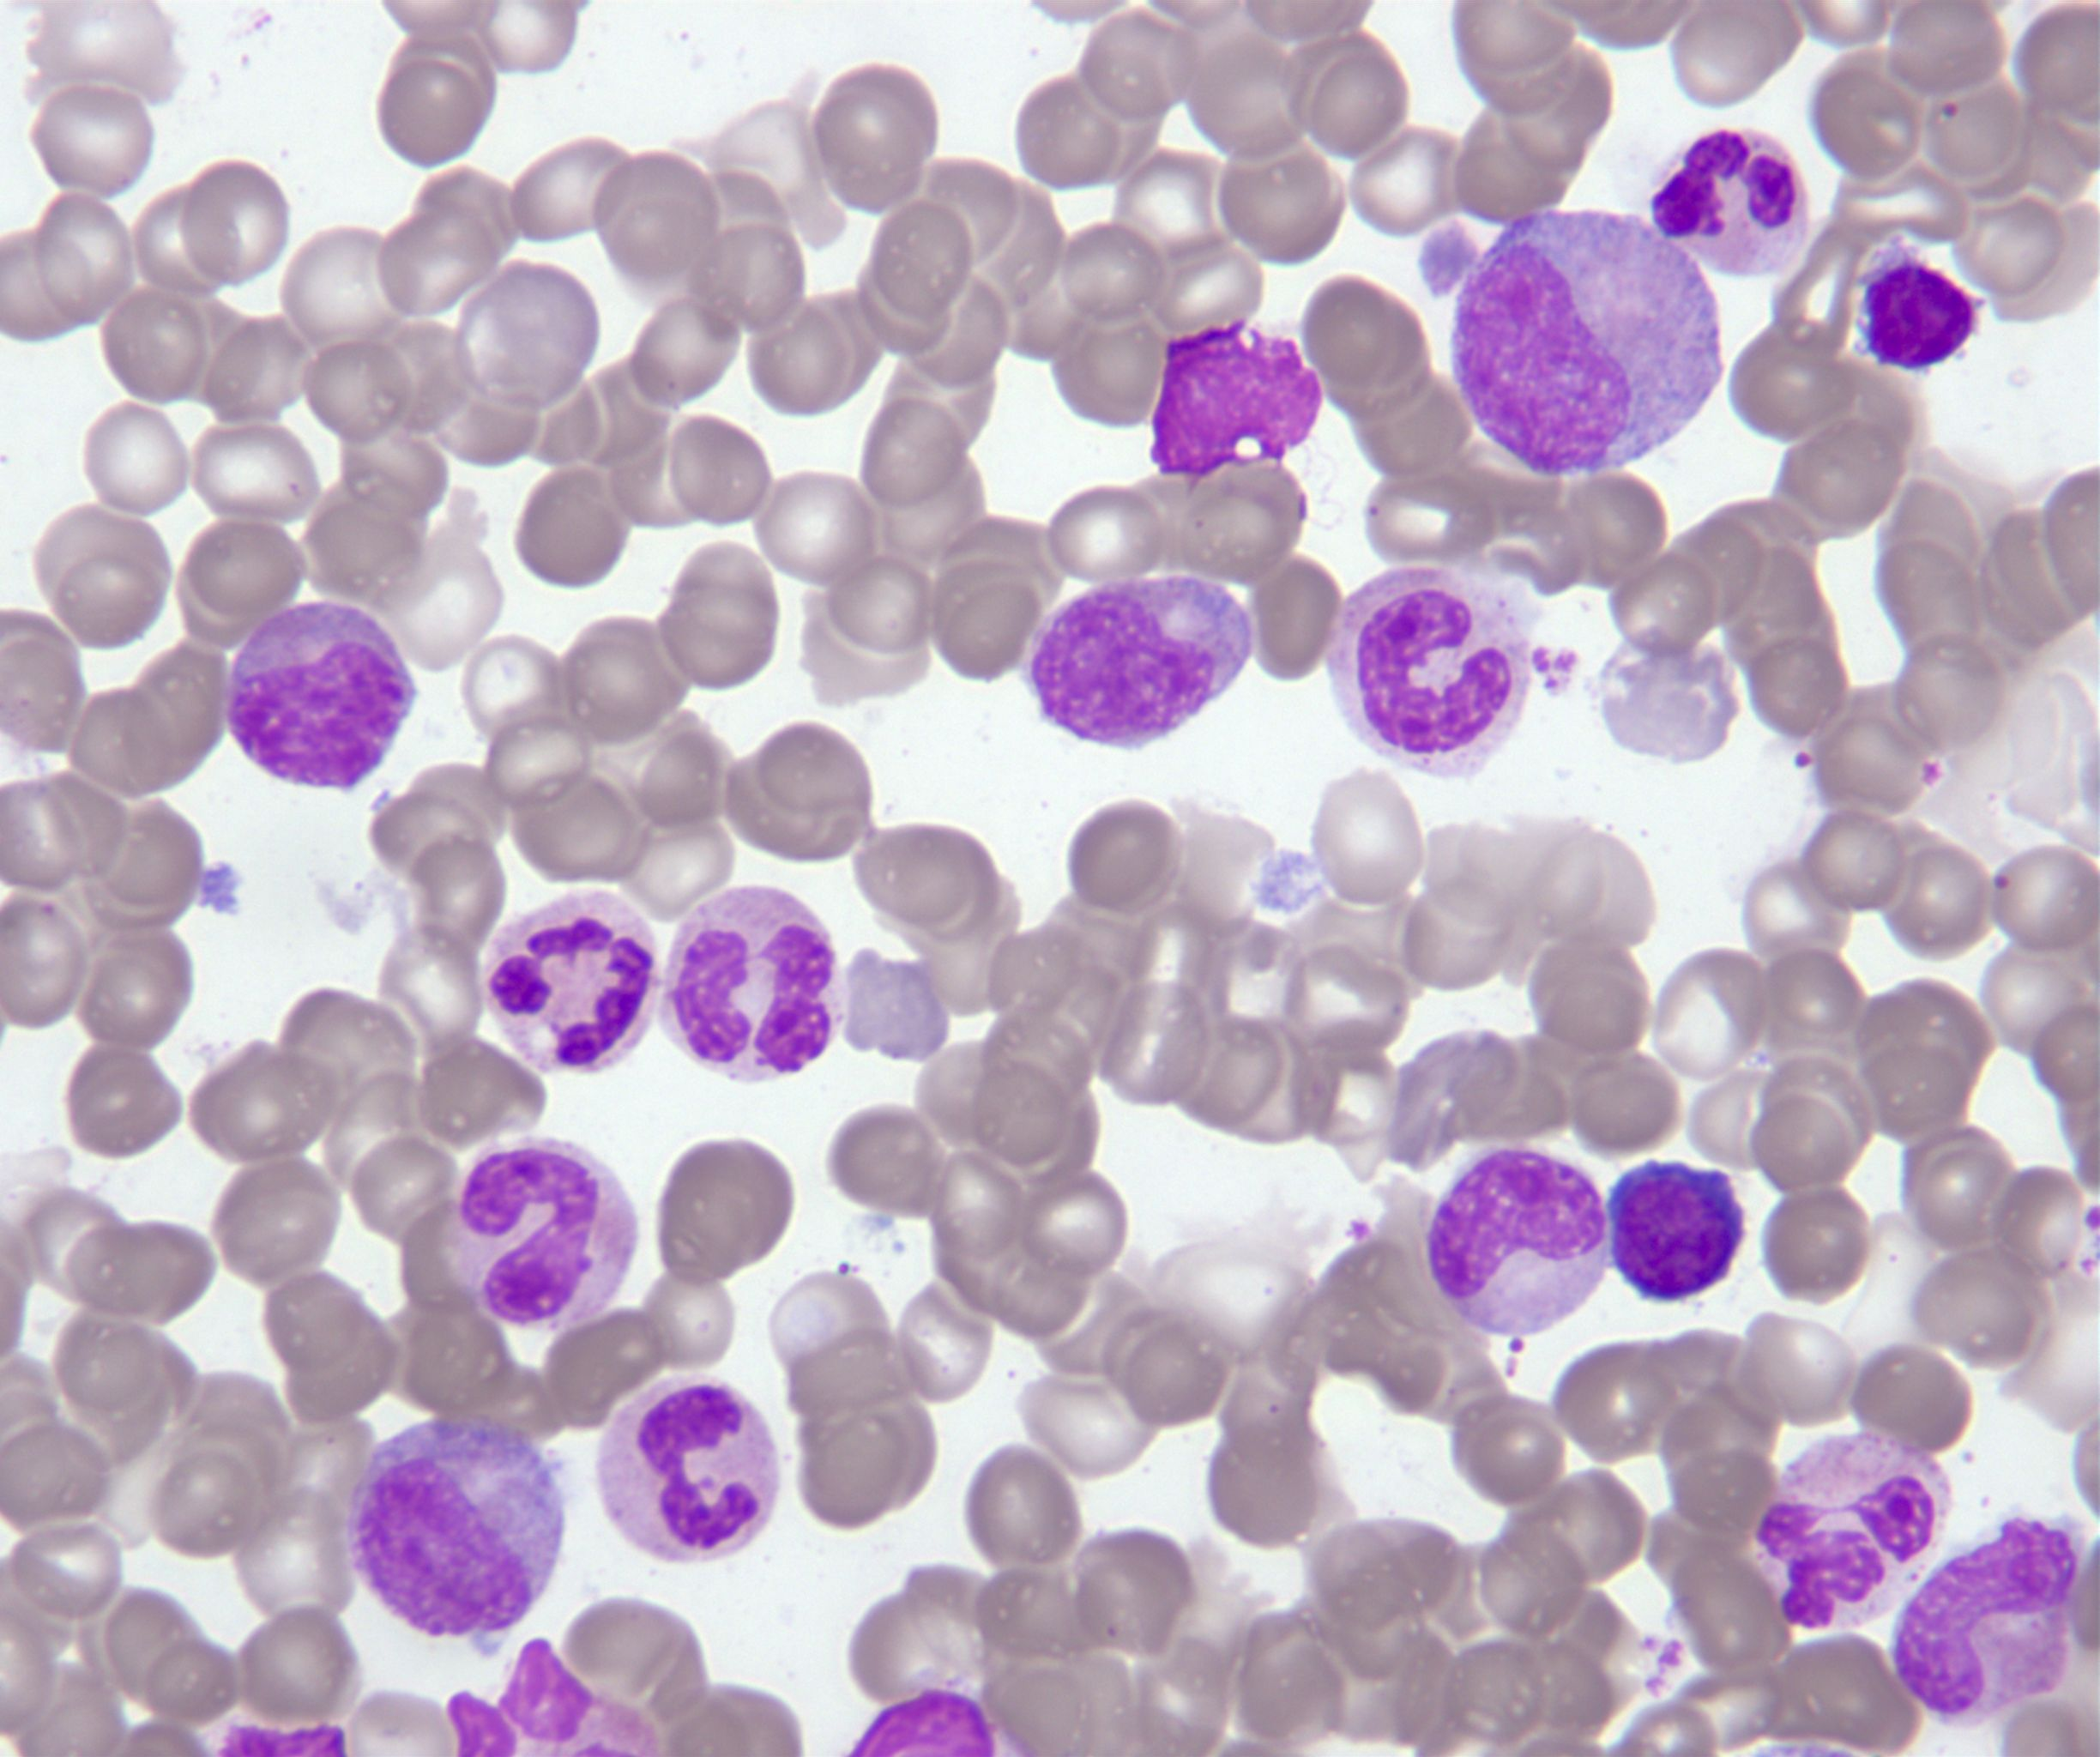23: (1603, 1159, 1749, 1303)
3: (1446, 206, 1732, 482), (344, 1415, 570, 1644)
32: (1856, 239, 1983, 379)
4: (1019, 571, 1261, 755), (222, 595, 420, 797), (1420, 1145, 1610, 1340)
5: (1319, 558, 1533, 783), (1887, 1507, 2081, 1731), (443, 1132, 640, 1340), (590, 1371, 785, 1572)
6: (1751, 1429, 1957, 1638), (659, 881, 851, 1087), (478, 886, 661, 1084), (1647, 127, 1819, 284)
x: (1144, 323, 1333, 489)
